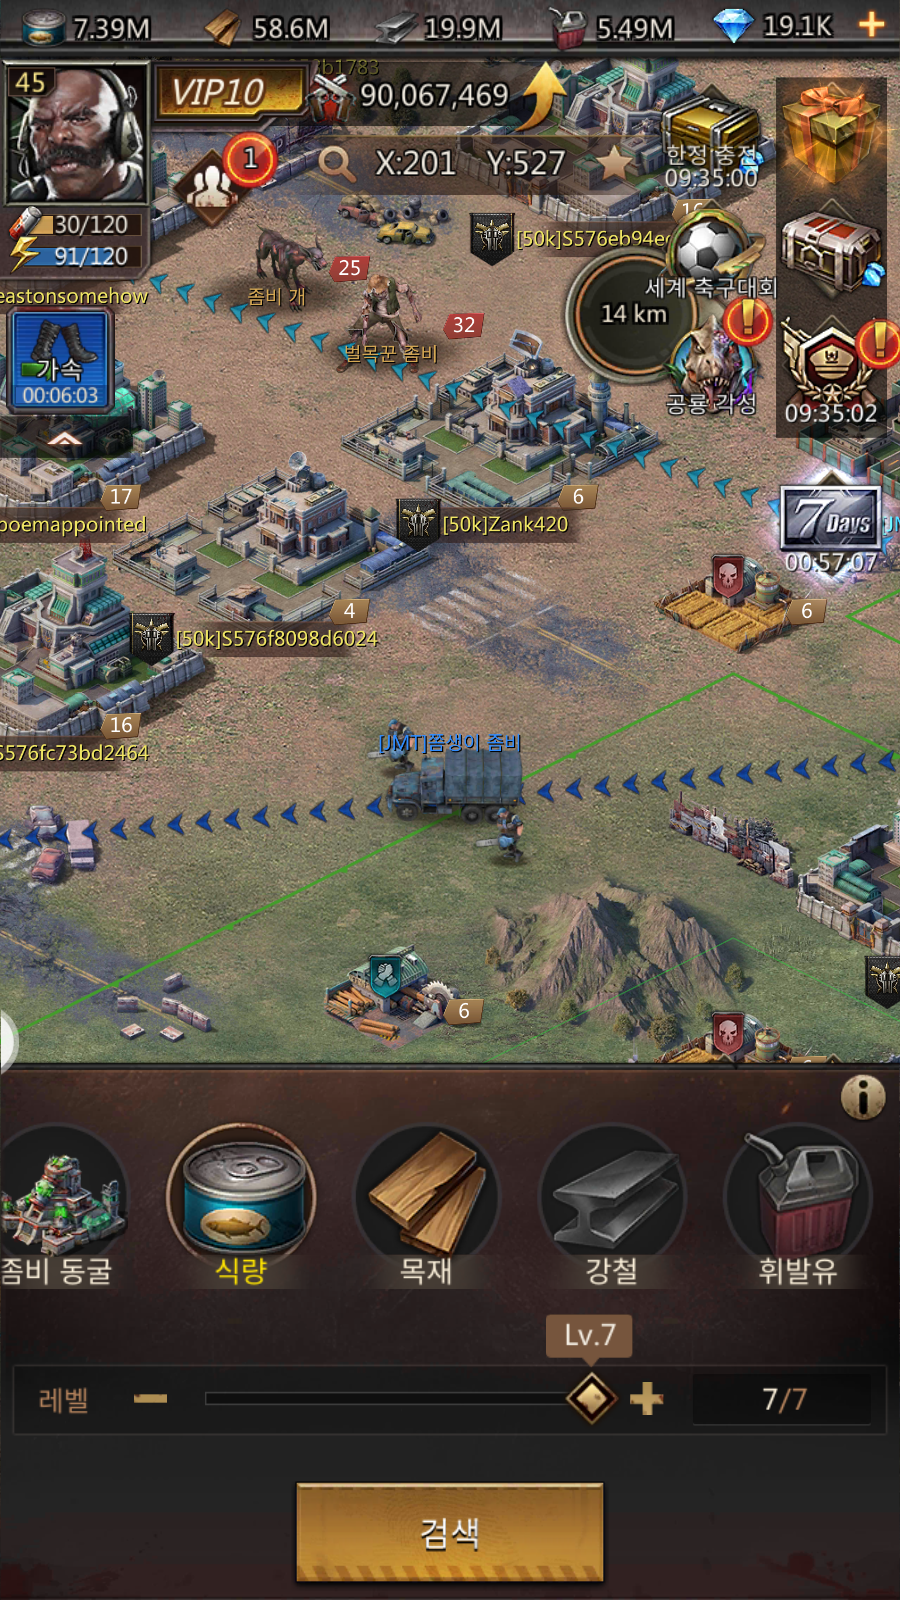rss_food_in_panel: (162, 1119, 320, 1291)
rss_gas_in_panel: (722, 1116, 895, 1296)
rss_lv7: (546, 1316, 631, 1356)
rss_minus_in_panel: (119, 1366, 178, 1424)
rss_plus_in_panel: (616, 1368, 675, 1427)
rss_search_in_panel: (295, 1481, 602, 1576)
rss_steel_in_panel: (541, 1116, 685, 1295)
rss_wood_in_panel: (351, 1120, 502, 1296)
troops_cnt_1: (164, 120, 297, 237)
